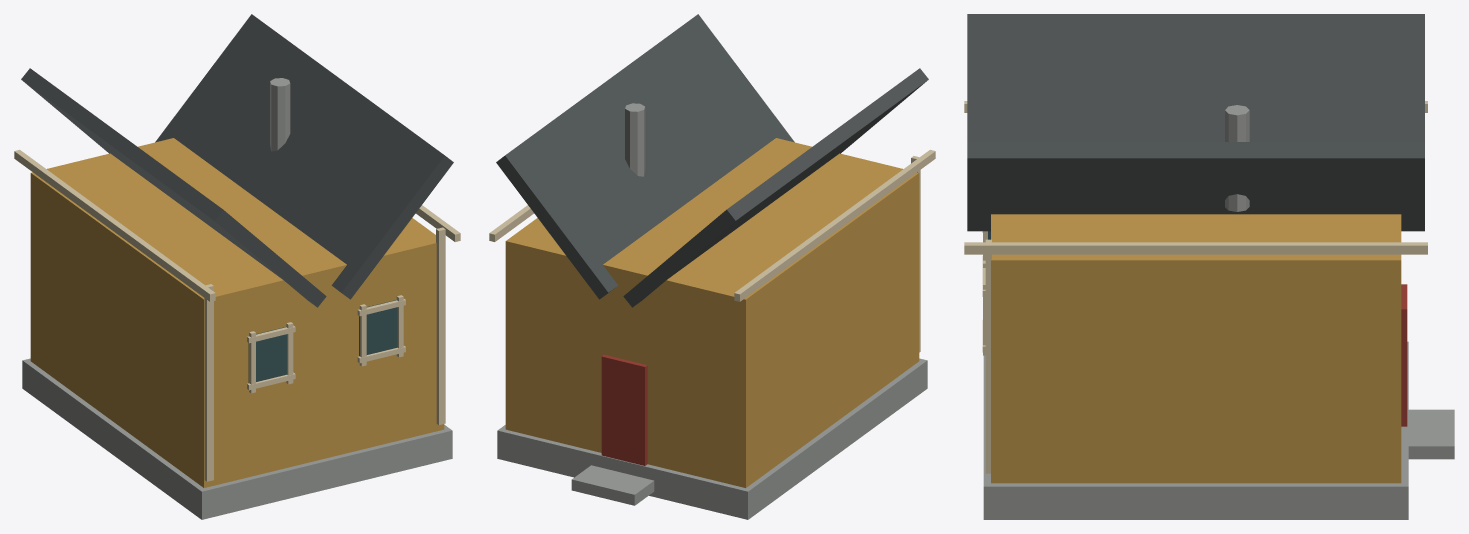
Rendered from norway-house-ochre-cream_lod0.glb.
3 views of the same model, side by side, from view 1: azimuth 30°, elevation 25°; view 2: azimuth 150°, elevation 25°; view 3: azimuth 270°, elevation 25° (orthographic). The views are drawn at different scales.
Visible parts, largest first — view 1: RF_House_Walls, RF_House_RoofB, RF_House_Foundation, RF_House_RoofA, RF_House_Fascia, RF_House_Corner.001, RF_House_Corner, RF_House_Chimney, RF_House_WindowRecess.001, RF_House_WindowRecess, RF_House_Fascia.001; view 2: RF_House_Walls, RF_House_RoofB, RF_House_Foundation, RF_House_RoofA, RF_House_Door, RF_House_Fascia, RF_House_Threshold, RF_House_Chimney, RF_House_Fascia.001; view 3: RF_House_Walls, RF_House_RoofA, RF_House_RoofB, RF_House_Foundation, RF_House_Fascia.001, RF_House_Threshold, RF_House_Corner.001, RF_House_Chimney, RF_House_Door.
Boxes of the visible parts, x1=… form: RF_House_Walls: x1=30, y1=138, x2=444, y2=487; RF_House_RoofB: x1=155, y1=14, x2=453, y2=299; RF_House_Foundation: x1=22, y1=358, x2=452, y2=519; RF_House_RoofA: x1=21, y1=68, x2=326, y2=307; RF_House_Fascia: x1=14, y1=149, x2=215, y2=301; RF_House_Corner.001: x1=436, y1=227, x2=445, y2=424; RF_House_Corner: x1=204, y1=284, x2=213, y2=481; RF_House_Chimney: x1=270, y1=78, x2=290, y2=151; RF_House_WindowRecess.001: x1=359, y1=300, x2=397, y2=356; RF_House_WindowRecess: x1=248, y1=327, x2=286, y2=382; RF_House_Fascia.001: x1=415, y1=205, x2=460, y2=241; RF_House_Walls: x1=505, y1=138, x2=919, y2=487; RF_House_RoofB: x1=496, y1=14, x2=794, y2=299; RF_House_Foundation: x1=497, y1=358, x2=927, y2=519; RF_House_RoofA: x1=623, y1=68, x2=928, y2=307; RF_House_Door: x1=601, y1=354, x2=647, y2=465; RF_House_Fascia: x1=734, y1=149, x2=935, y2=301; RF_House_Threshold: x1=571, y1=465, x2=654, y2=505; RF_House_Chimney: x1=625, y1=103, x2=645, y2=176; RF_House_Fascia.001: x1=489, y1=205, x2=534, y2=241; RF_House_Walls: x1=991, y1=214, x2=1401, y2=483; RF_House_RoofA: x1=967, y1=14, x2=1424, y2=141; RF_House_RoofB: x1=967, y1=142, x2=1424, y2=231; RF_House_Foundation: x1=983, y1=341, x2=1408, y2=519; RF_House_Fascia.001: x1=964, y1=242, x2=1427, y2=254; RF_House_Threshold: x1=1408, y1=409, x2=1454, y2=459; RF_House_Corner.001: x1=985, y1=239, x2=991, y2=473; RF_House_Chimney: x1=1225, y1=105, x2=1249, y2=211; RF_House_Door: x1=1401, y1=284, x2=1407, y2=426.
Bounding box in the file's own units: 8.35 × 10 × 11.95.
